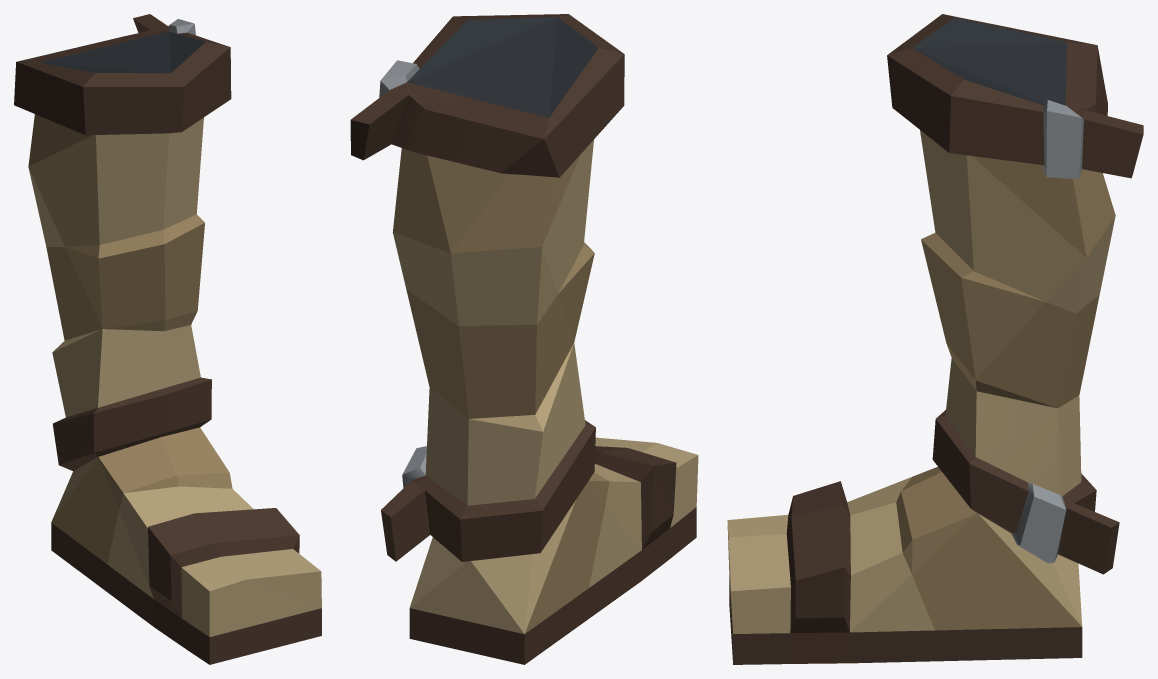
Rendered from Chr_LegRight_Male_17_Static.fbx.
3 renders of one model, left to right at view 1: azimuth 30°, elevation 25°; view 2: azimuth 150°, elevation 25°; view 3: azimuth 270°, elevation 25°, orthographic. The views are drawn at different scales.
Visible parts, largest first — view 1: Chr_LegRight_Male_17_Static; view 2: Chr_LegRight_Male_17_Static; view 3: Chr_LegRight_Male_17_Static.
Part boxes in pixels (<box>): Chr_LegRight_Male_17_Static: <box>14,14,321,664</box>; Chr_LegRight_Male_17_Static: <box>350,14,698,664</box>; Chr_LegRight_Male_17_Static: <box>727,14,1143,664</box>.
Bounding box in the file's own units: 0.1375 × 0.404 × 0.2632.
